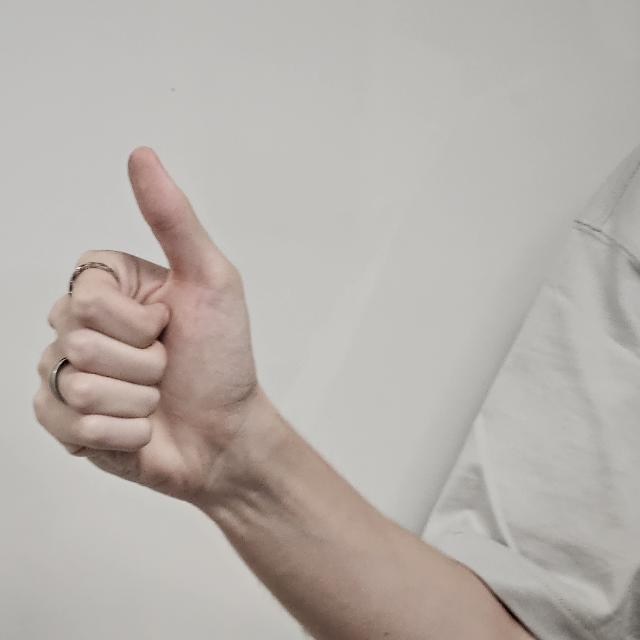Start: (31, 147, 287, 499)
